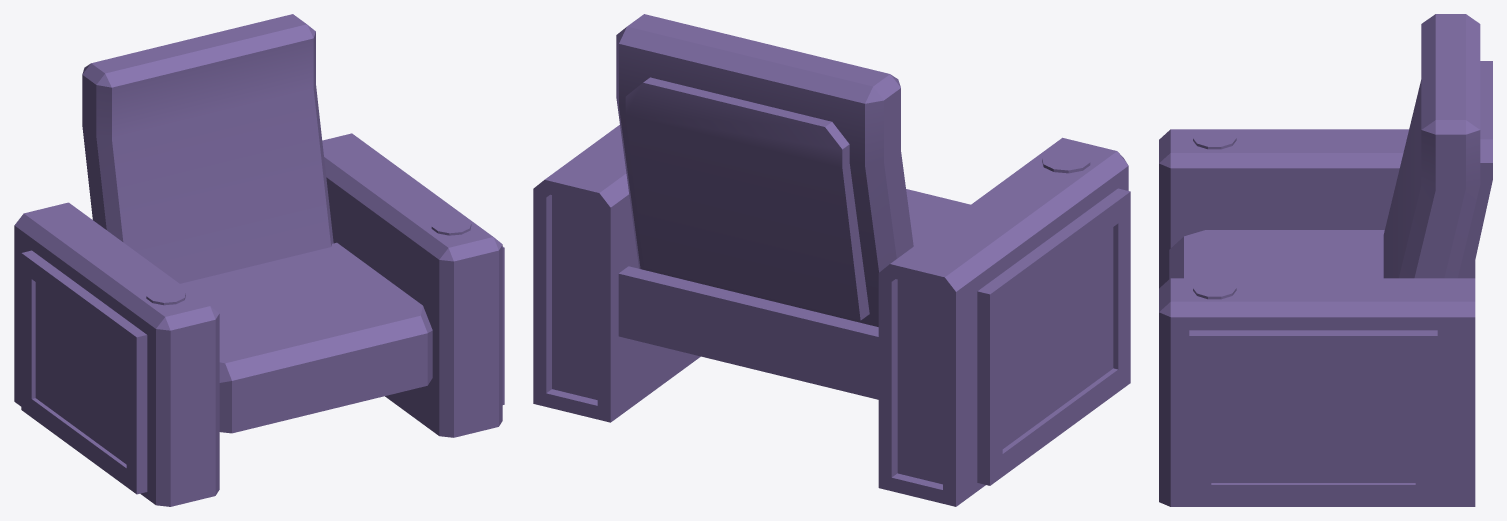
File: Armchair.fbx
3 renders of one model, left to right at view 1: azimuth 30°, elevation 25°; view 2: azimuth 150°, elevation 25°; view 3: azimuth 270°, elevation 25°, orthographic. The views are drawn at different scales.
Parts seen in each view (by area): view 1: Armchair; view 2: Armchair; view 3: Armchair.
Part boxes in pixels (box(x1,y1,x2,y2)): Armchair: box(14, 14, 504, 506); Armchair: box(533, 14, 1130, 506); Armchair: box(1159, 14, 1492, 506).
Size of the model in its own units: 82.4 by 69.37 by 60.2.
